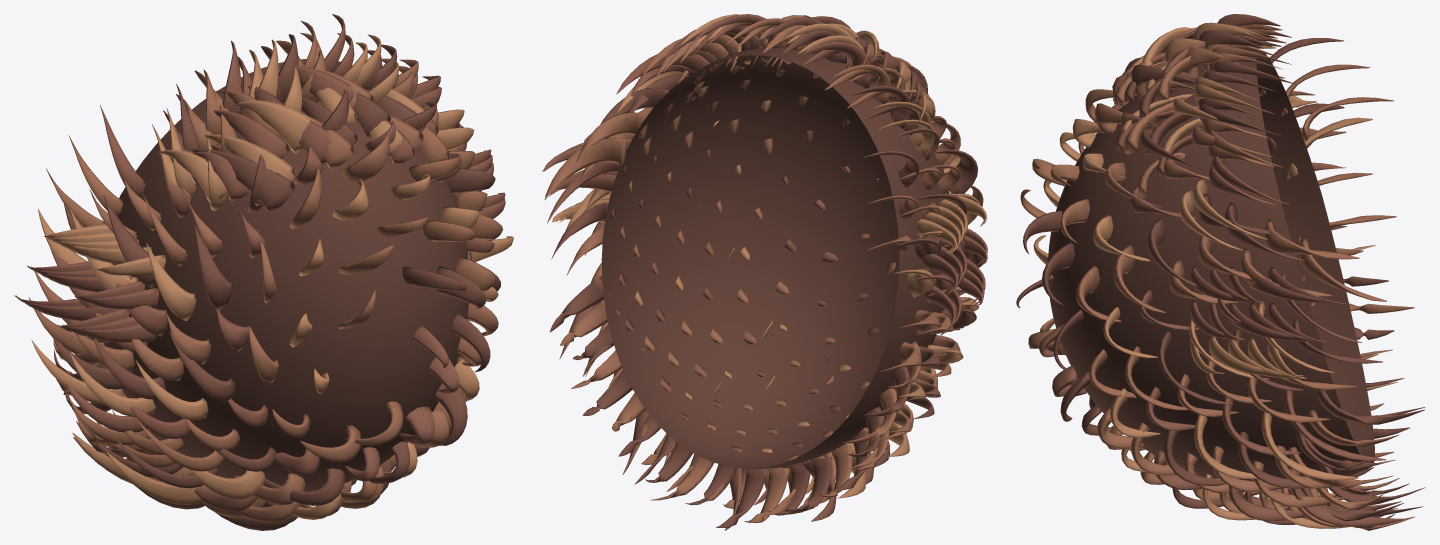
File: Ender_DarkCopper_LayeredHair_V1_NONCANONICAL.glb
3 renders of one model, left to right at view 1: azimuth 30°, elevation 25°; view 2: azimuth 150°, elevation 25°; view 3: azimuth 270°, elevation 25°, orthographic. The views are drawn at different scales.
Visible parts, largest first — view 1: Ender_CopperHair_Review_Static; view 2: Ender_CopperHair_Review_Static; view 3: Ender_CopperHair_Review_Static.
Part boxes in pixels (<box>): Ender_CopperHair_Review_Static: <box>14,14,513,530</box>; Ender_CopperHair_Review_Static: <box>542,14,987,530</box>; Ender_CopperHair_Review_Static: <box>1016,14,1425,530</box>.
Size of the model in its own units: 0.2303 by 0.2434 by 0.1872.
